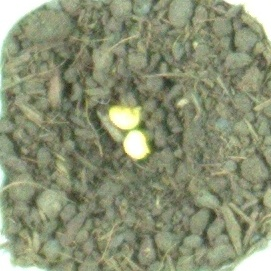pepper seed: (47, 49, 200, 211), (35, 38, 180, 169)
